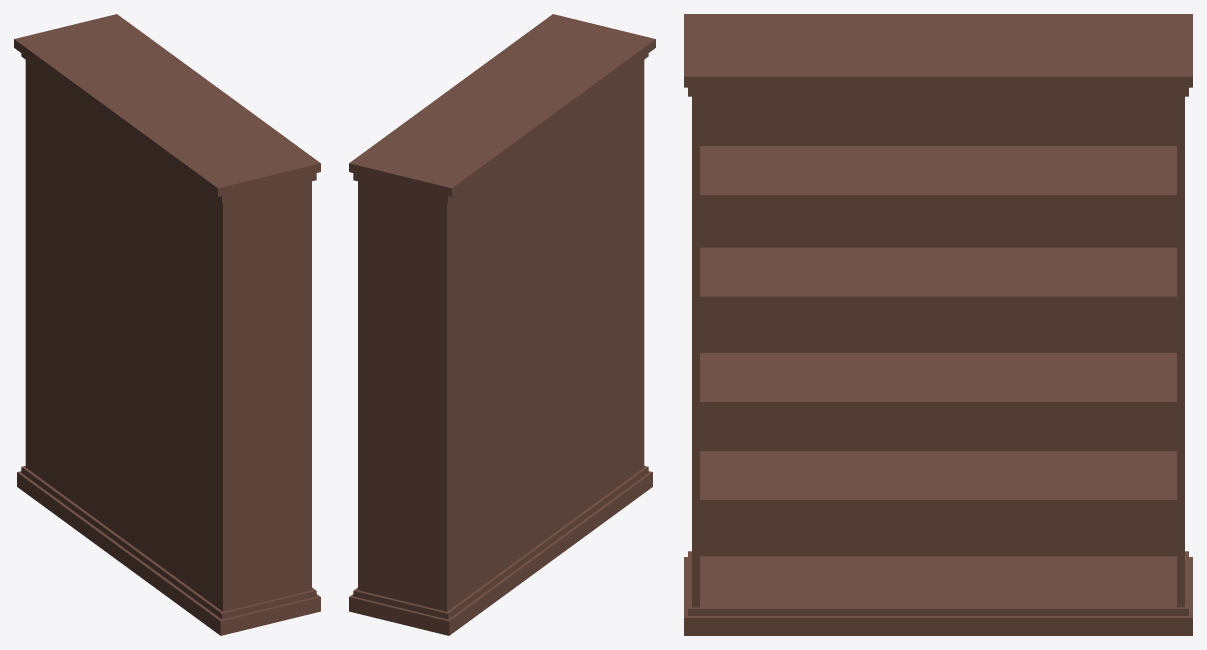
File: bookS.obj
3 views of the same model, side by side, from view 1: azimuth 30°, elevation 25°; view 2: azimuth 150°, elevation 25°; view 3: azimuth 270°, elevation 25° (orthographic). The views are drawn at different scales.
Parts seen in each view (by area): view 1: group1236096718, group601020356, group867109627, group2035373360, group804261949, group1457230194, group1736750755; view 2: group1236096718, group1992870748, group867109627, group2035373360, group804261949, group1457230194, group1465410725, group419263992, group85029991; view 3: group1236096718, group867109627, group804261949, group85029991, group419263992, group1465410725, group1736750755, group2035373360, group1457230194, group1992870748, group601020356.
Part boxes in pixels (bbox=[...]): group1236096718: bbox=[25, 60, 228, 611]; group601020356: bbox=[228, 181, 311, 610]; group867109627: bbox=[14, 14, 320, 196]; group2035373360: bbox=[17, 471, 320, 635]; group804261949: bbox=[21, 466, 316, 619]; group1457230194: bbox=[21, 53, 316, 203]; group1736750755: bbox=[228, 262, 309, 290]; group1236096718: bbox=[441, 60, 644, 611]; group1992870748: bbox=[358, 181, 441, 610]; group867109627: bbox=[349, 14, 655, 196]; group2035373360: bbox=[349, 471, 652, 635]; group804261949: bbox=[353, 466, 648, 619]; group1457230194: bbox=[353, 53, 648, 203]; group1465410725: bbox=[360, 428, 446, 456]; group419263992: bbox=[360, 506, 446, 534]; group85029991: bbox=[360, 343, 446, 372]; group1236096718: bbox=[700, 96, 1176, 556]; group867109627: bbox=[684, 14, 1192, 87]; group804261949: bbox=[688, 551, 1188, 615]; group85029991: bbox=[700, 247, 1176, 307]; group419263992: bbox=[700, 451, 1176, 510]; group1465410725: bbox=[700, 353, 1176, 412]; group1736750755: bbox=[700, 146, 1176, 205]; group2035373360: bbox=[684, 557, 1192, 635]; group1457230194: bbox=[688, 87, 1188, 96]; group1992870748: bbox=[1177, 96, 1184, 607]; group601020356: bbox=[692, 96, 699, 607].
Size of the model in its own units: 0.37 by 1.54 by 1.27.
